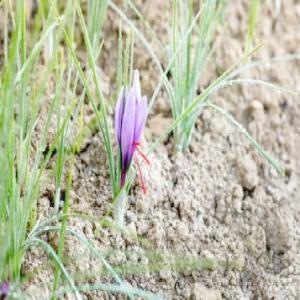Saffron: (116, 87, 146, 181)
